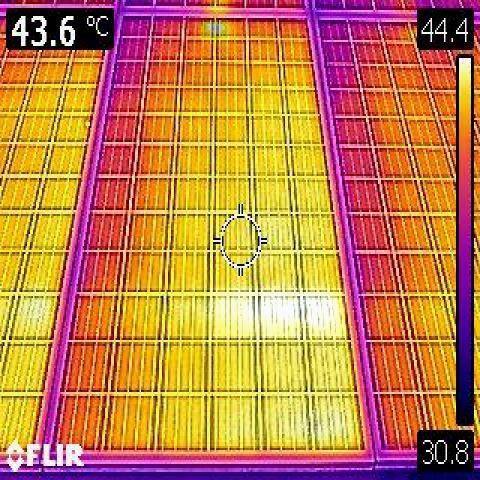fault: (210, 288, 346, 340), (202, 20, 228, 38)
